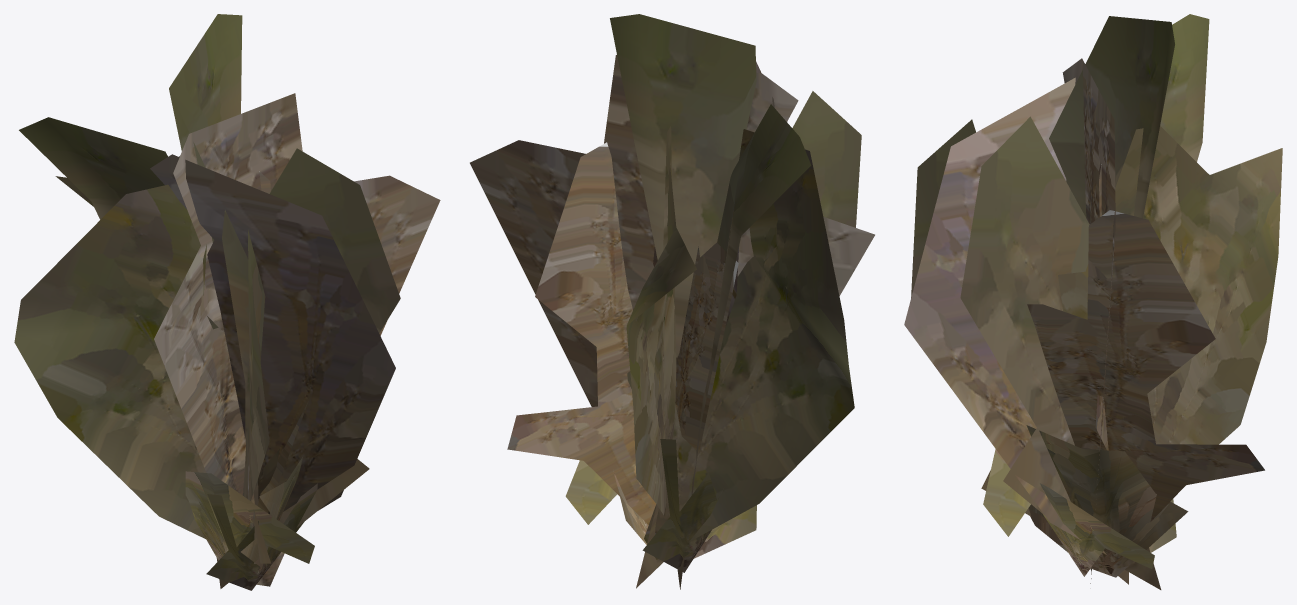
File: MOD_PlantScrub_D.fbx
The picture shows the model from 3 angles, left to right: view 1: azimuth 30°, elevation 25°; view 2: azimuth 150°, elevation 25°; view 3: azimuth 270°, elevation 25°; orthographic projection. The views are drawn at different scales.
Visible parts, largest first — view 1: MOD_PlantScrub_D; view 2: MOD_PlantScrub_D; view 3: MOD_PlantScrub_D.
Boxes of the visible parts, box(x1,y1,x2,y2) form: MOD_PlantScrub_D: box(14, 14, 440, 590); MOD_PlantScrub_D: box(470, 14, 874, 589); MOD_PlantScrub_D: box(904, 14, 1282, 589).
Size of the model in its own units: 47.63 by 64.49 by 38.7.
1 material, 1 textured.
